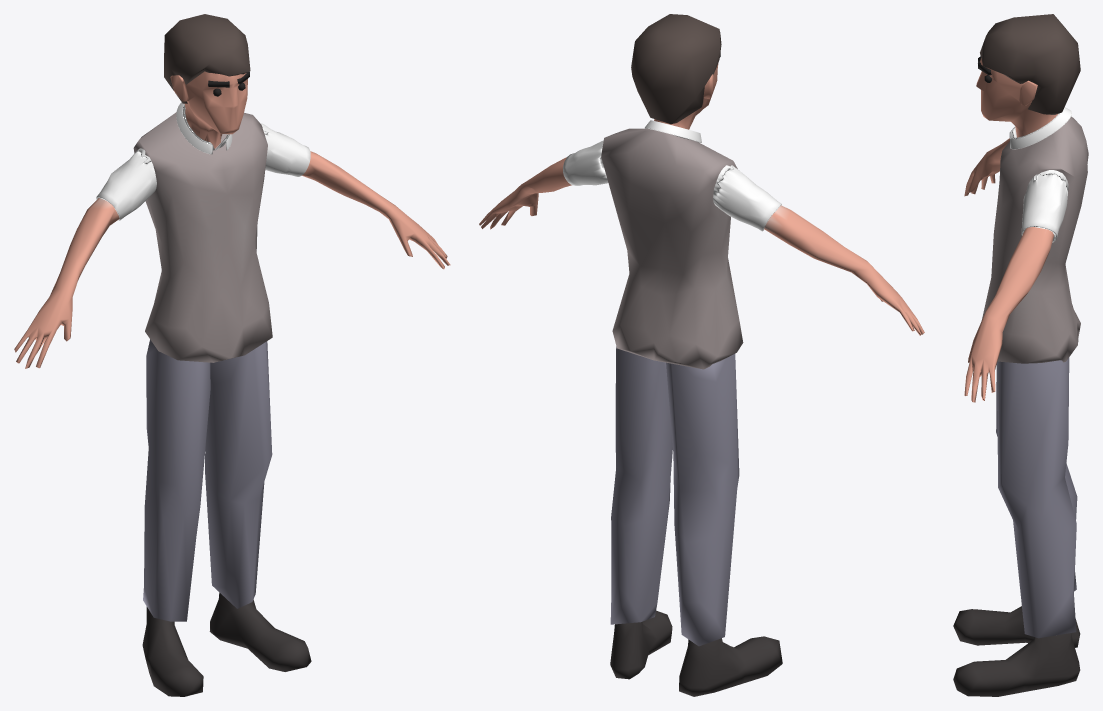
The model's file is Male_PlanesofHead_128.fbx.
3 views of the same model, side by side, from view 1: azimuth 30°, elevation 25°; view 2: azimuth 150°, elevation 25°; view 3: azimuth 270°, elevation 25° (orthographic). The views are drawn at different scales.
Visible parts, largest first — view 1: Male_PlanesofHead_128; view 2: Male_PlanesofHead_128; view 3: Male_PlanesofHead_128.
Boxes of the visible parts, <box> form: Male_PlanesofHead_128: <box>14,14,450,696</box>; Male_PlanesofHead_128: <box>479,14,924,696</box>; Male_PlanesofHead_128: <box>953,14,1088,696</box>.
Size of the model in its own units: 8.1 by 11.38 by 2.18.
1 material, 1 textured.
